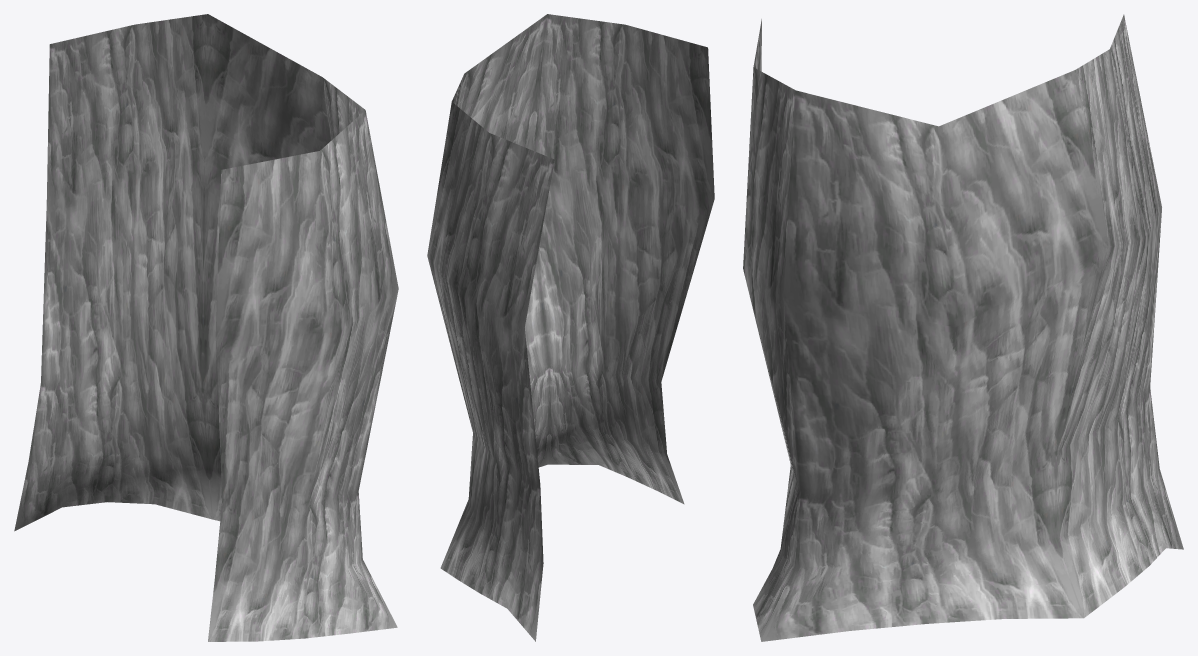
Rendered from SWORDLIGHT20_PS-AREA03_63.fbx.
The picture shows the model from 3 angles, left to right: view 1: azimuth 30°, elevation 25°; view 2: azimuth 150°, elevation 25°; view 3: azimuth 270°, elevation 25°; orthographic projection. The views are drawn at different scales.
Parts seen in each view (by area): view 1: SWORDLIGHT20_PS-AREA03_63; view 2: SWORDLIGHT20_PS-AREA03_63; view 3: SWORDLIGHT20_PS-AREA03_63.
Boxes of the visible parts, bbox=[...] form: SWORDLIGHT20_PS-AREA03_63: bbox=[14, 14, 398, 641]; SWORDLIGHT20_PS-AREA03_63: bbox=[427, 14, 714, 641]; SWORDLIGHT20_PS-AREA03_63: bbox=[743, 14, 1183, 641].
Bounding box in the file's own units: 69224 × 155392 × 112047.
Materials: 1 (1 with a texture image).
